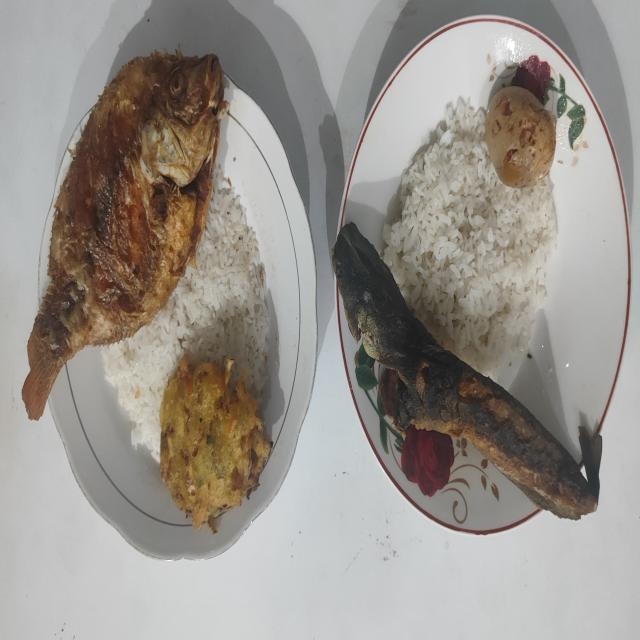ikan_mujair: (22, 51, 229, 420)
nasi_putih: (379, 99, 557, 378), (102, 170, 269, 458)
